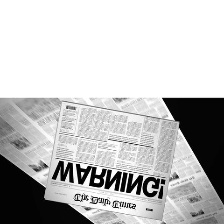news_paper: (0, 97, 223, 224), (43, 100, 184, 222)
